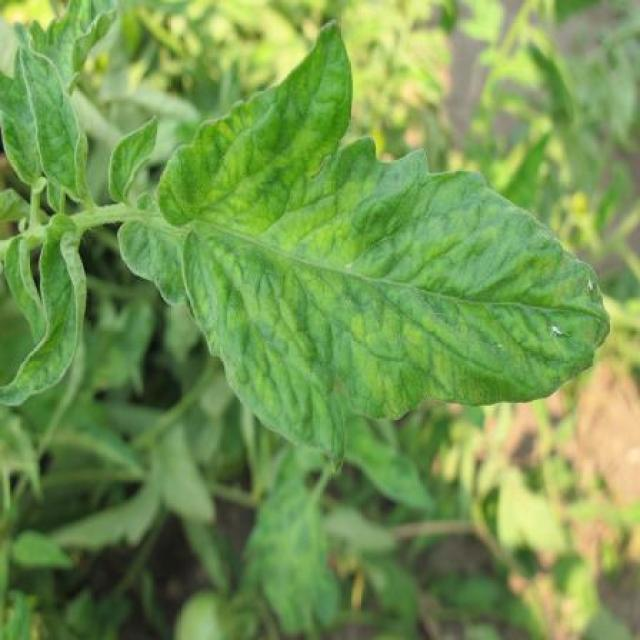Mosaic Virus: (111, 35, 612, 492)
